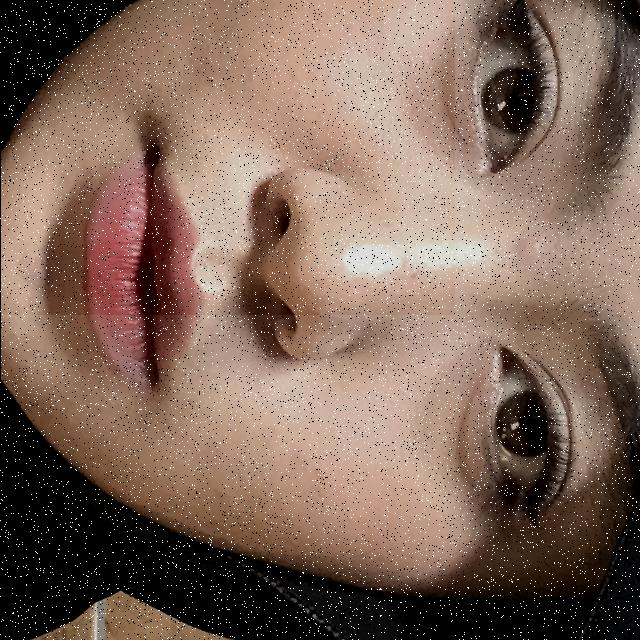ibu: (0, 0, 454, 315)
